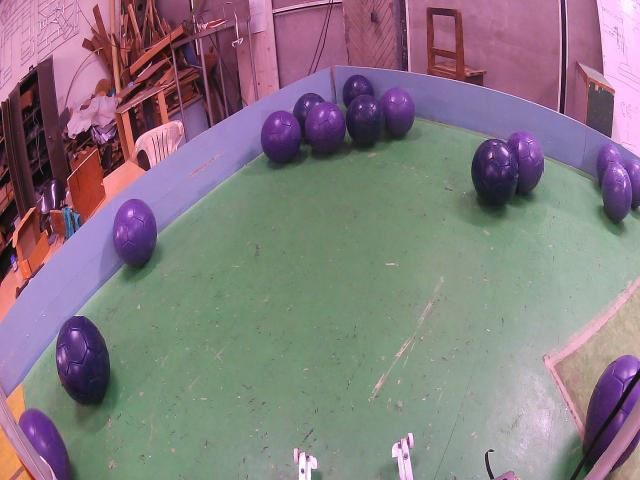jambhalya: (583, 355, 640, 452), (586, 380, 640, 466), (19, 408, 71, 480), (112, 200, 158, 266), (507, 132, 543, 194), (305, 102, 346, 154), (262, 110, 301, 163), (602, 163, 632, 222), (380, 88, 415, 137), (597, 145, 622, 186), (613, 432, 640, 469), (625, 160, 640, 207)
kaalyya: (56, 316, 110, 406), (471, 140, 519, 206), (346, 95, 385, 146), (293, 94, 324, 139), (343, 75, 374, 108)
